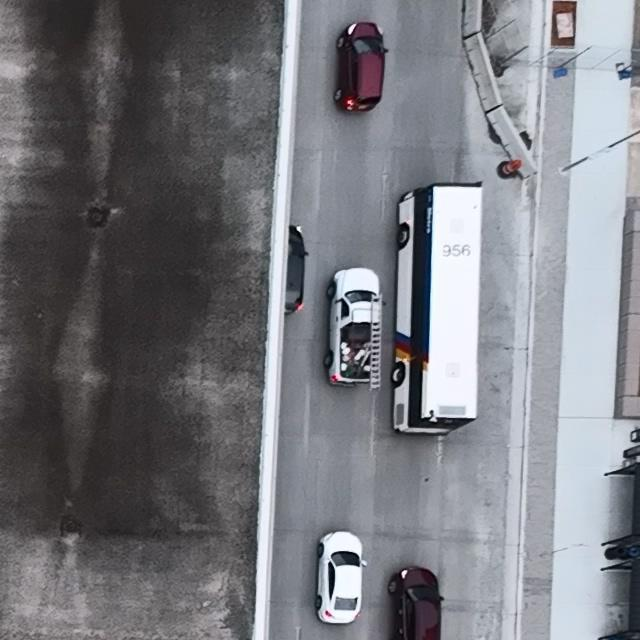car: (391, 180, 484, 435), (324, 267, 387, 391), (333, 21, 388, 113), (316, 530, 367, 626), (386, 566, 445, 640), (285, 224, 309, 316)
